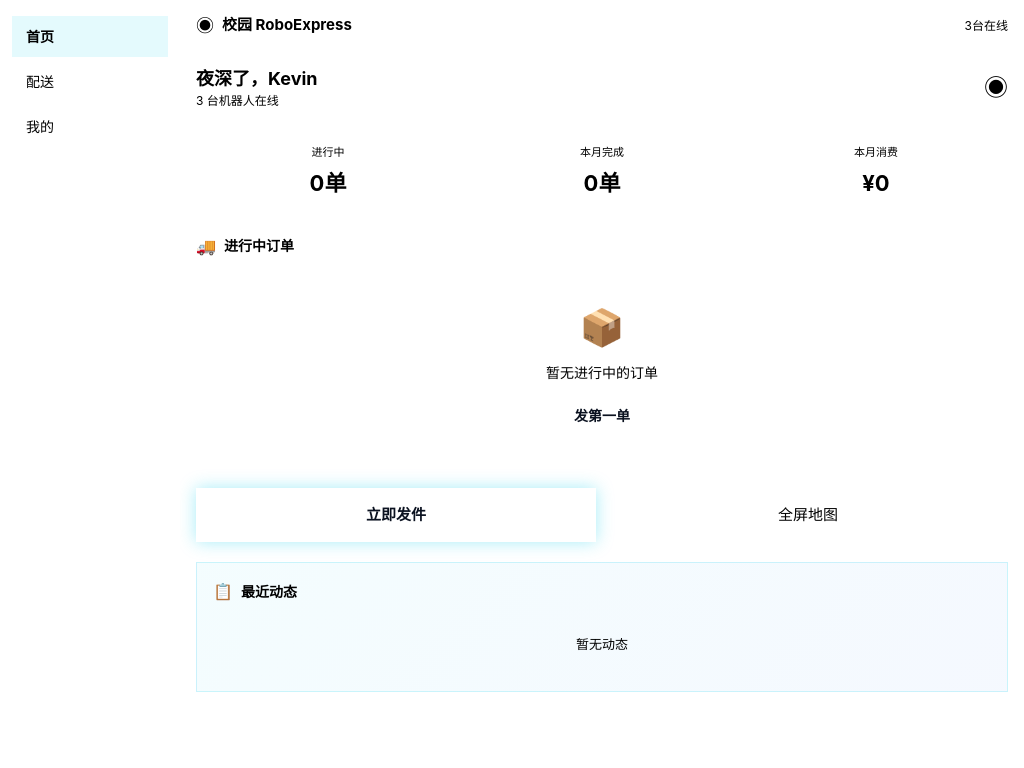
App integration › closing wizard returns to delivery page
Click the button with test id "home-send-btn" at (396, 515), box top-left (196, 488), bottom-right (596, 542)
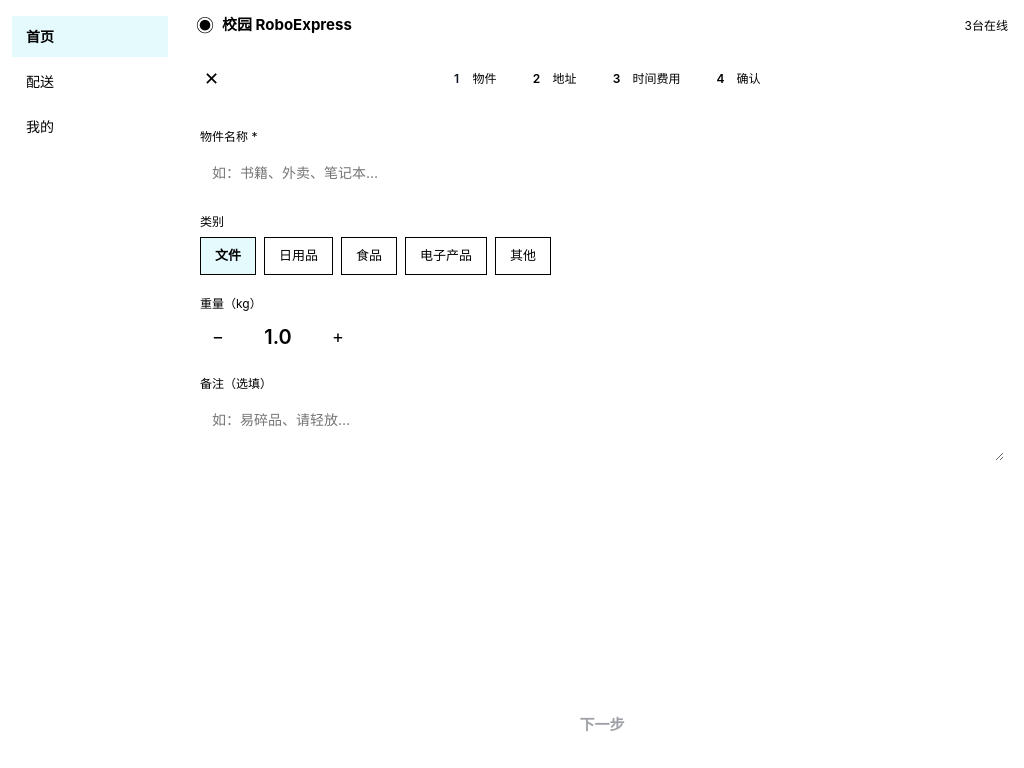
Result: the element with test id "wizard-page" is shown
Click back button to close wizard
Click the button with test id "wizard-back" at (212, 78), box top-left (196, 61), bottom-right (227, 96)
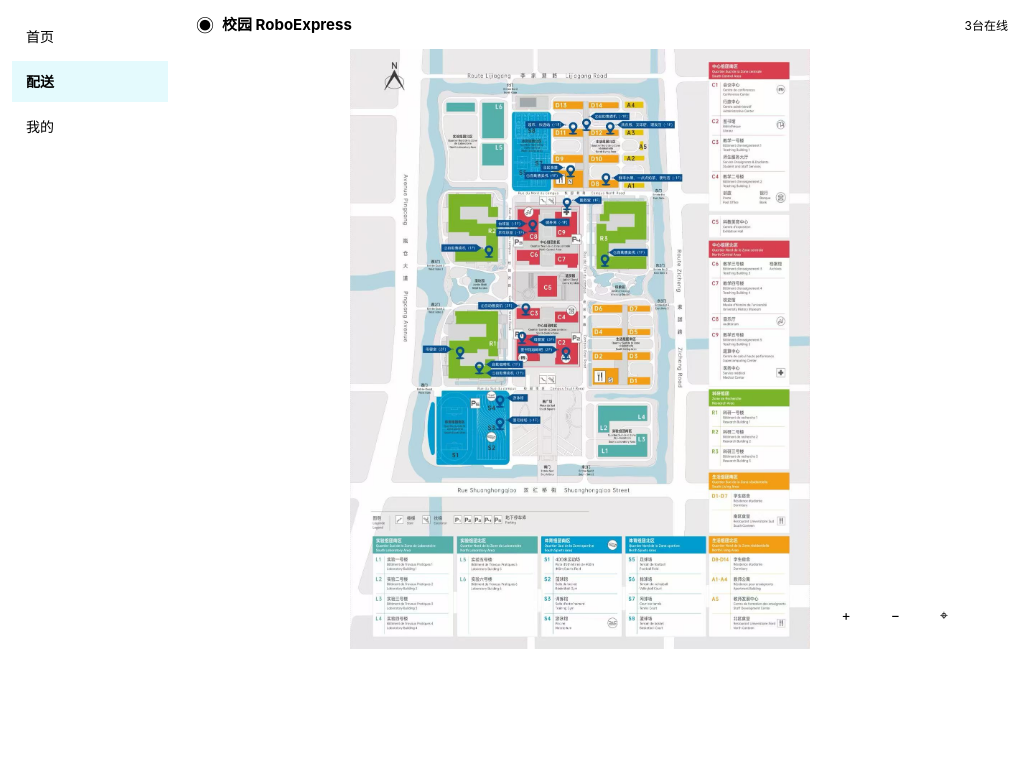
Result: the element with test id "page-delivery" is shown at top-left (350, 49), bottom-right (964, 649)
